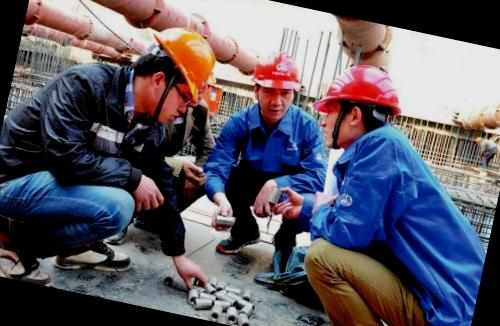person: (0, 0, 243, 315), (267, 57, 500, 326), (192, 41, 351, 282)
